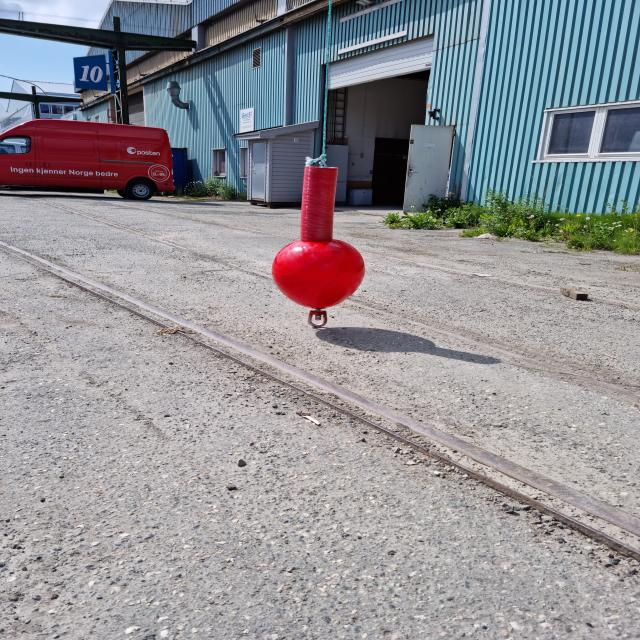red: (274, 166, 364, 310)
